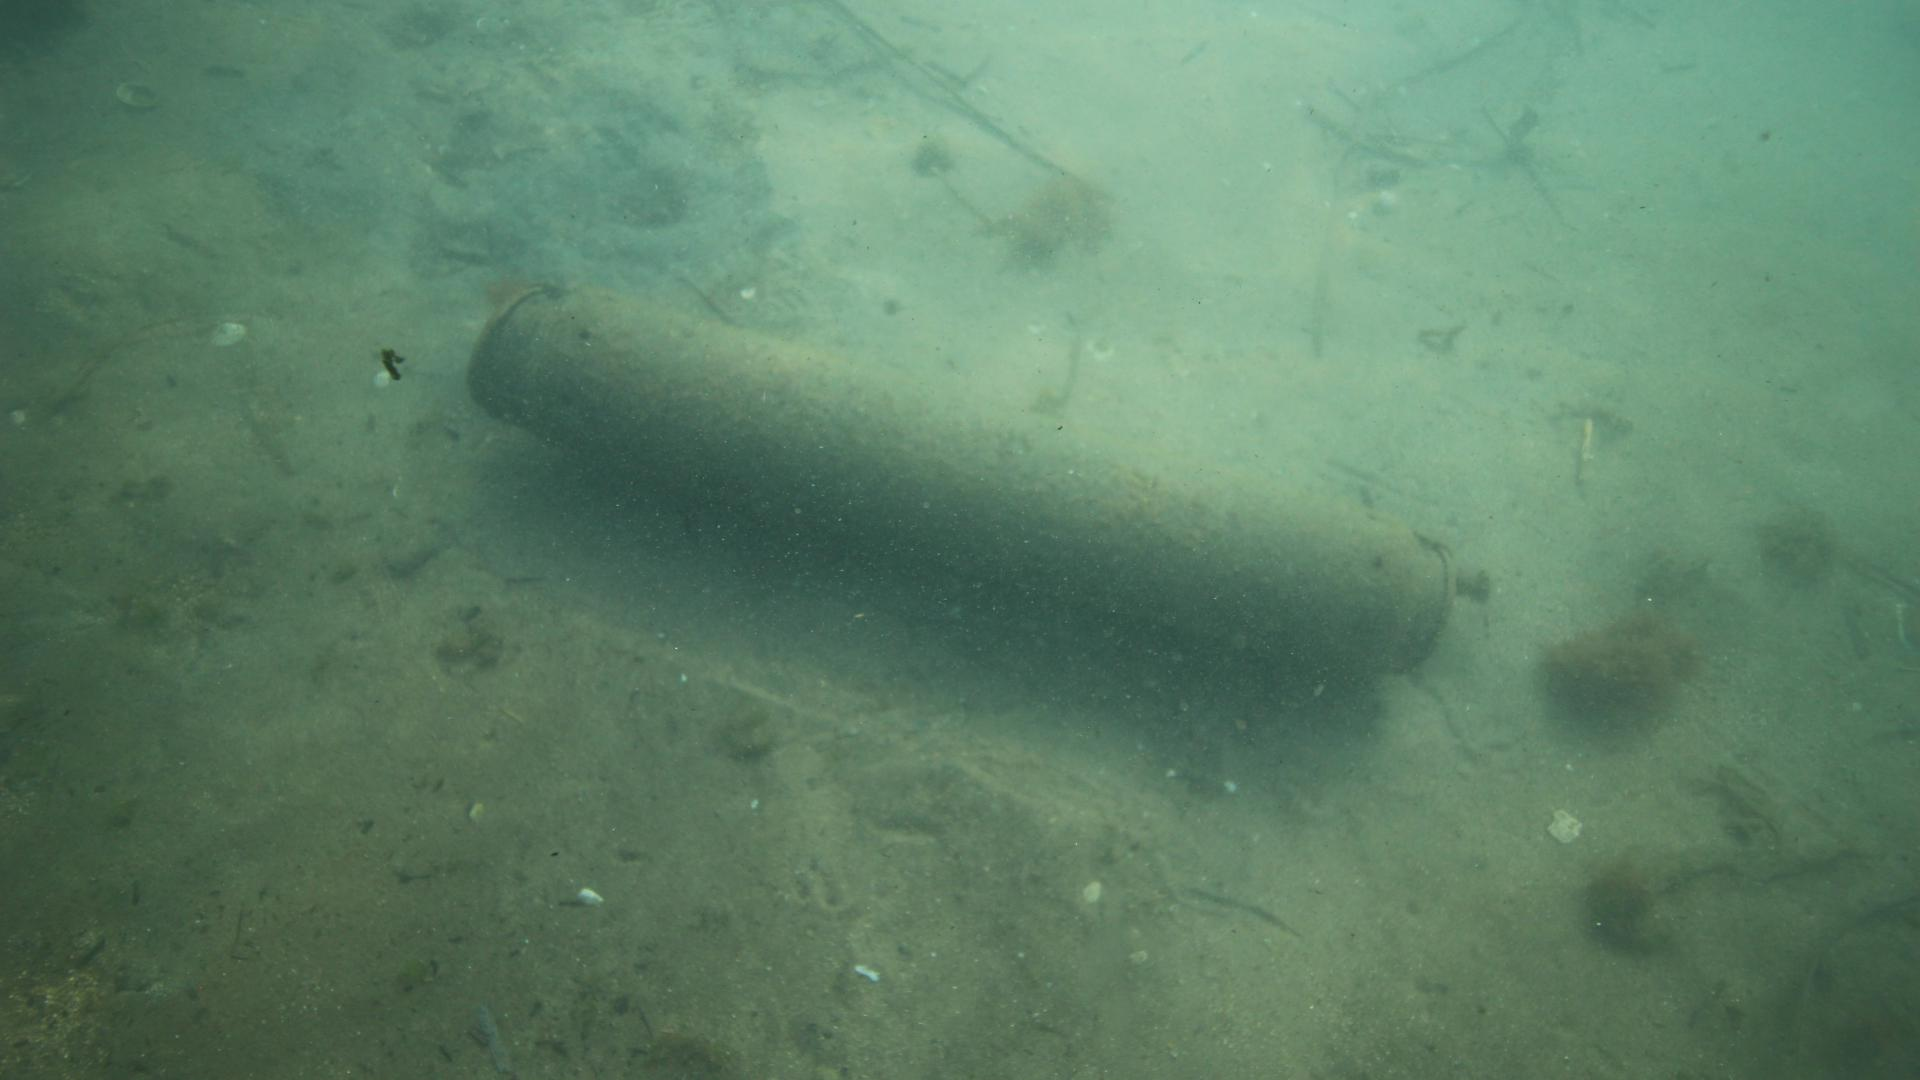eel fish trap: (462, 280, 1460, 676)
